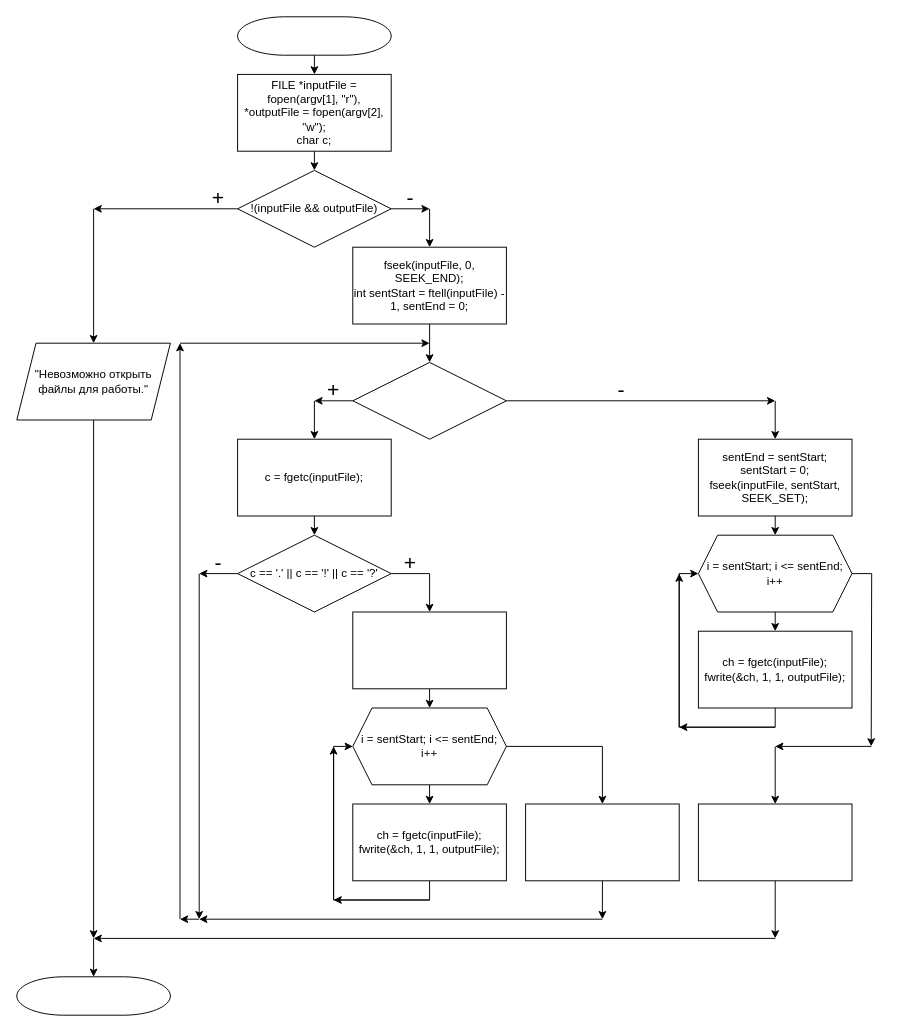
This 897x1032 diagram has some shape labels left out. Each missing label, with the centre of its shape:
"fclose(inputFile); fclose(outputFile);" goes at [774,842].
"fseek(inputFile, sentStart, SEEK_SET);" goes at [602,842].
"ftell(inputFile) > 0" goes at [429,400].
"sentEnd = sentStart; sentStart = ftell(inputFile);" goes at [429,650].
"Конец" goes at [93,995].
"Начало" goes at [314,35].
